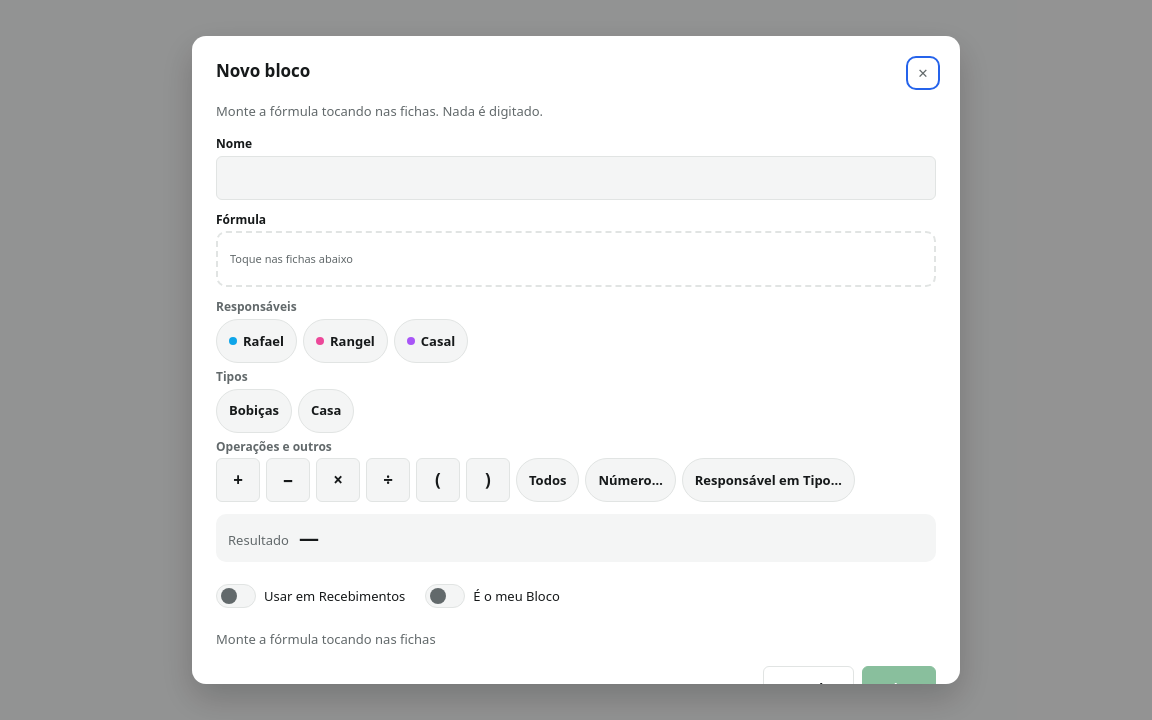
Test: Montador de Bloco › tocar numa ficha da Fórmula a remove
Click the button "Rangel".
click(345, 341)  # box top-left (303, 319), bottom-right (388, 363)
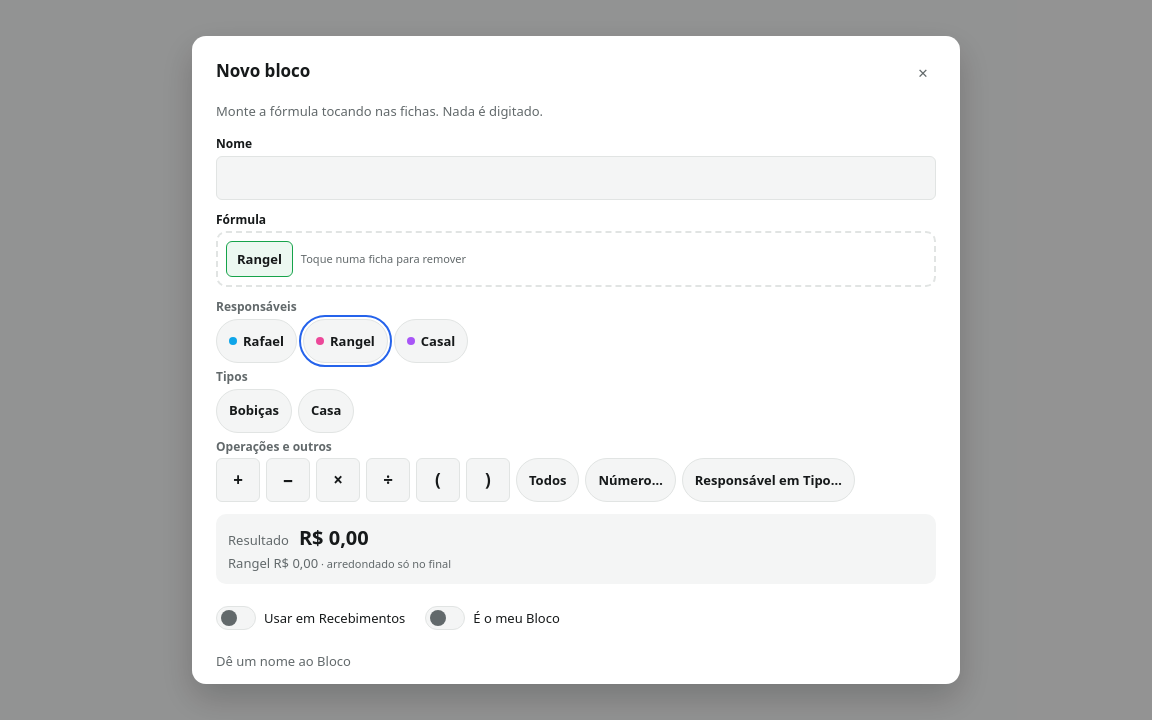
Click the button named "Somar".
click(238, 480)  # box top-left (216, 458), bottom-right (260, 502)
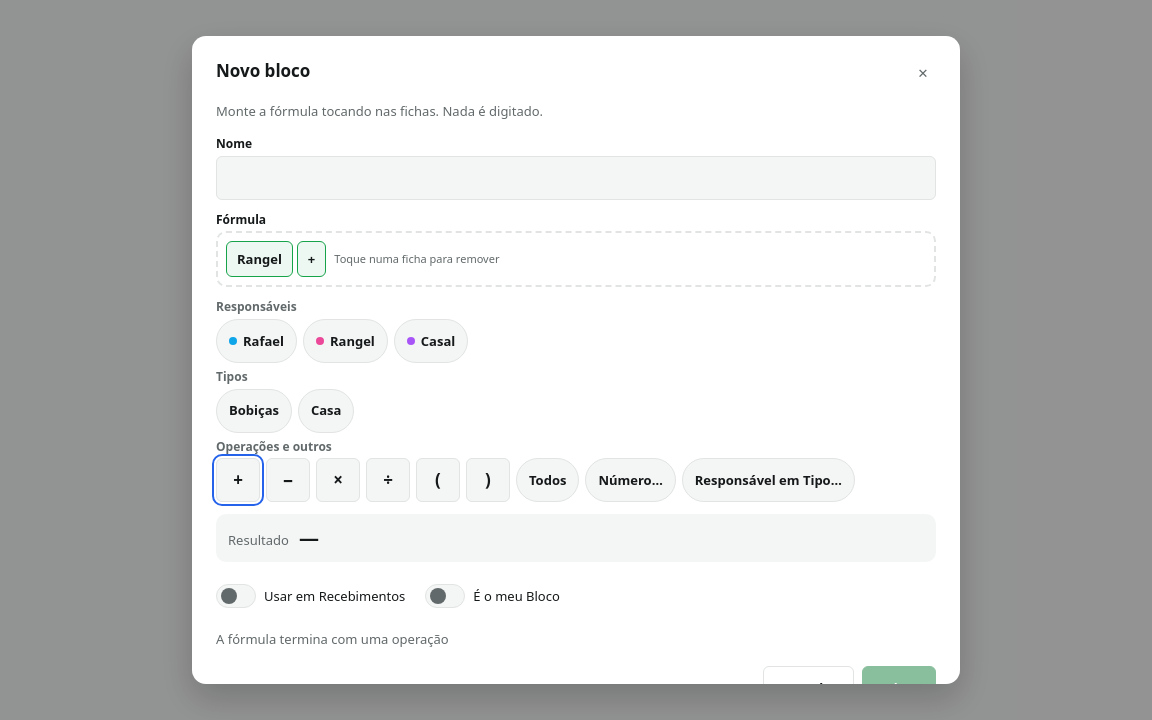
Click the button "Casal".
click(431, 341)  # box top-left (394, 319), bottom-right (468, 363)
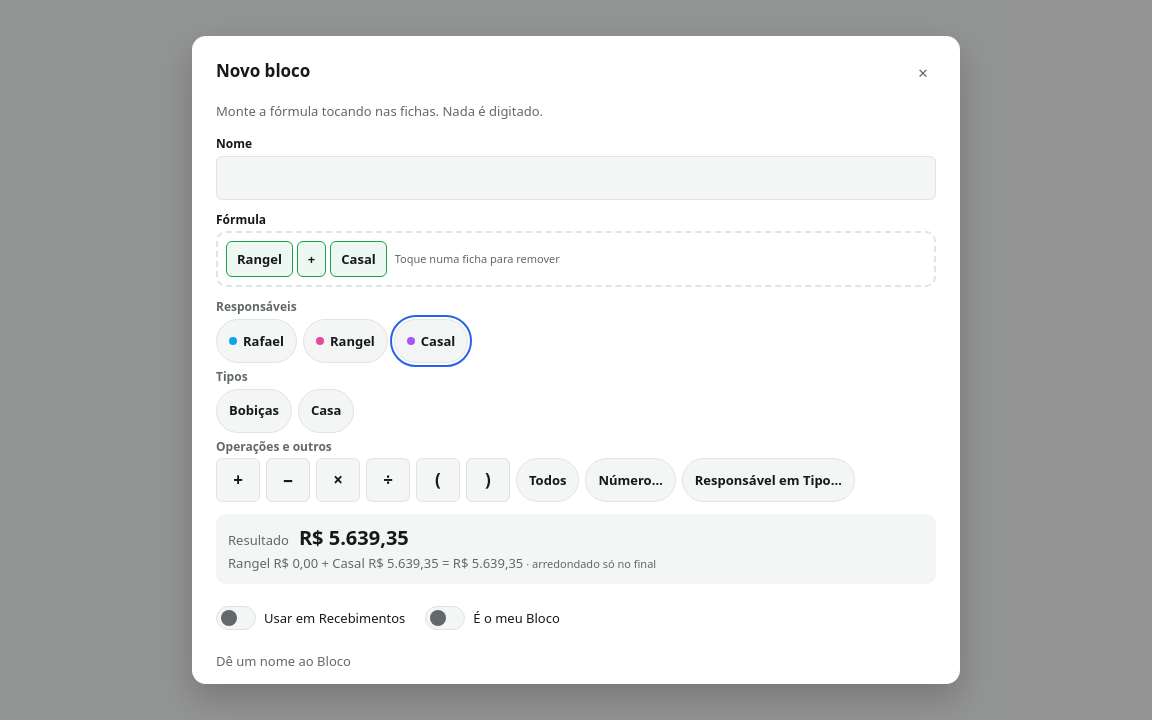
Click the button named "Remover +".
click(312, 259)  # box top-left (297, 241), bottom-right (326, 277)
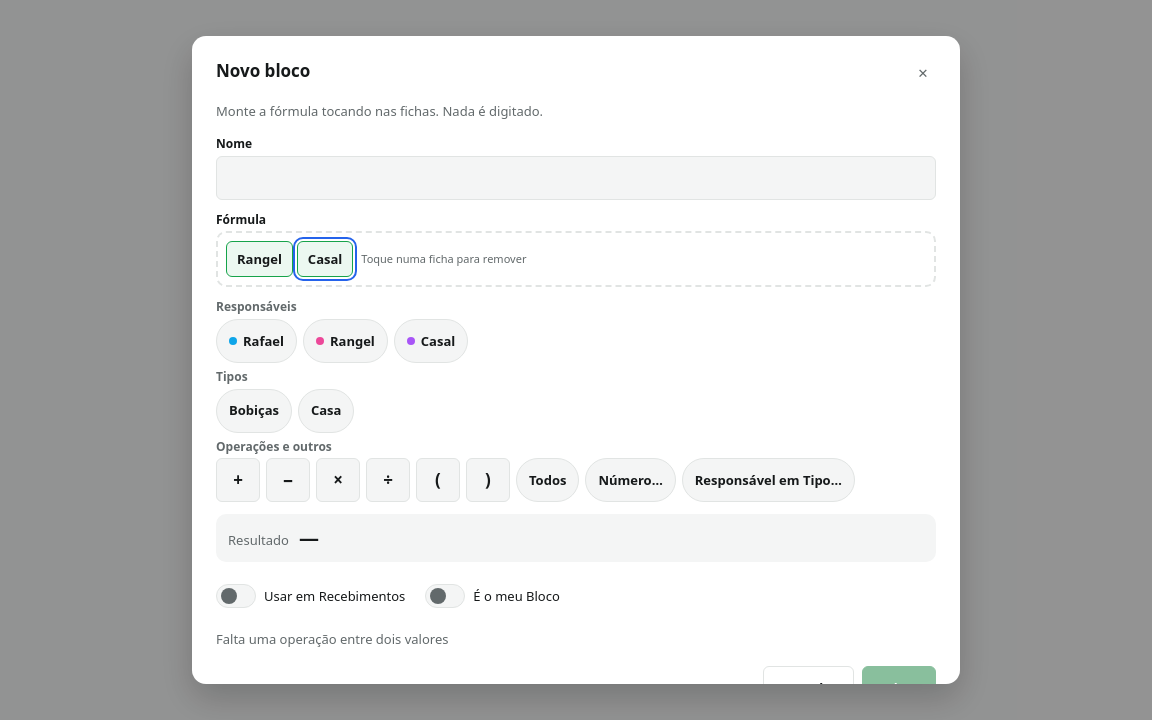
expect the message reads "Falta uma operação entre dois valores": met, box top-left (216, 630), bottom-right (448, 648)
